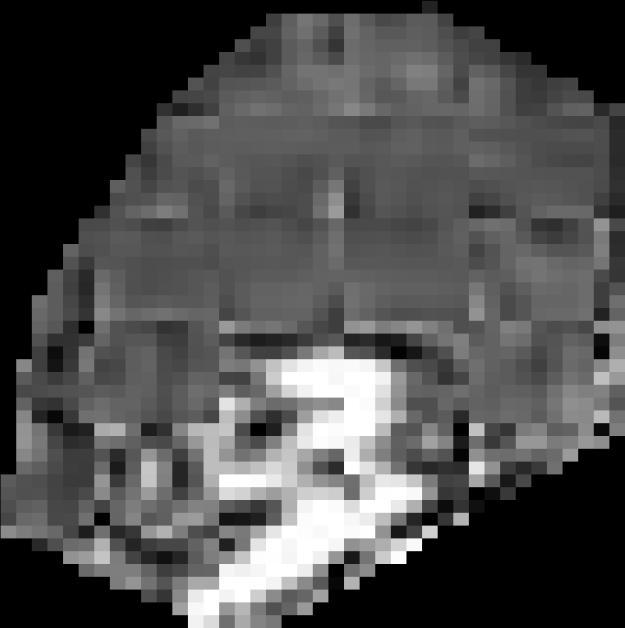tumor_good_chance: (1, 1, 625, 628)
